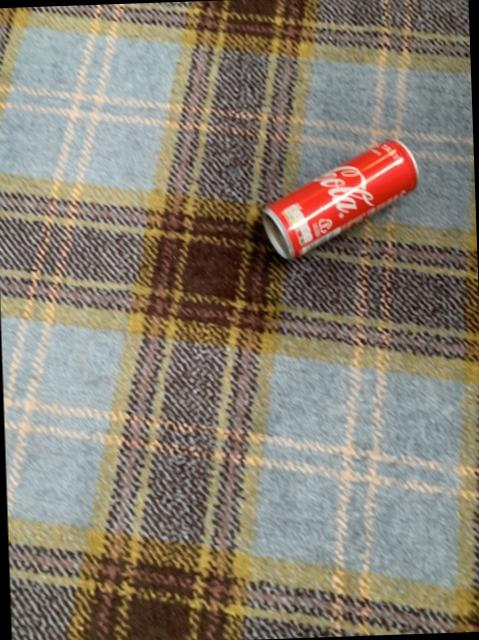metal: (264, 142, 417, 260)
